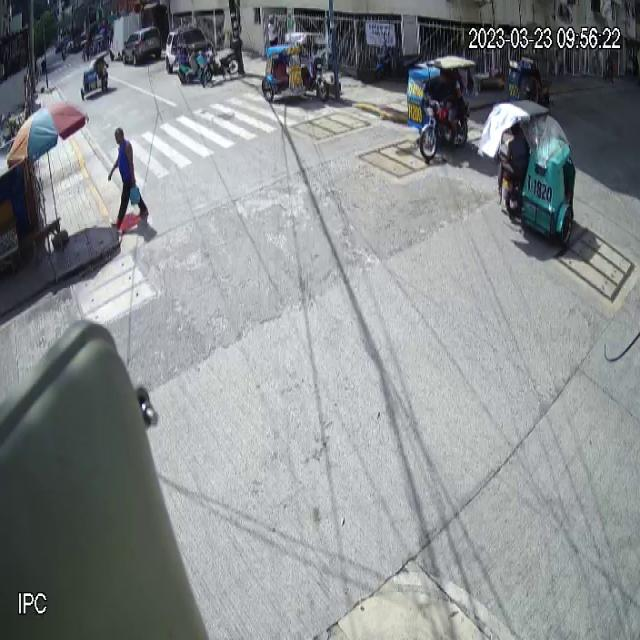Tricycle: (477, 99, 578, 247), (407, 53, 475, 159), (261, 31, 330, 102)
